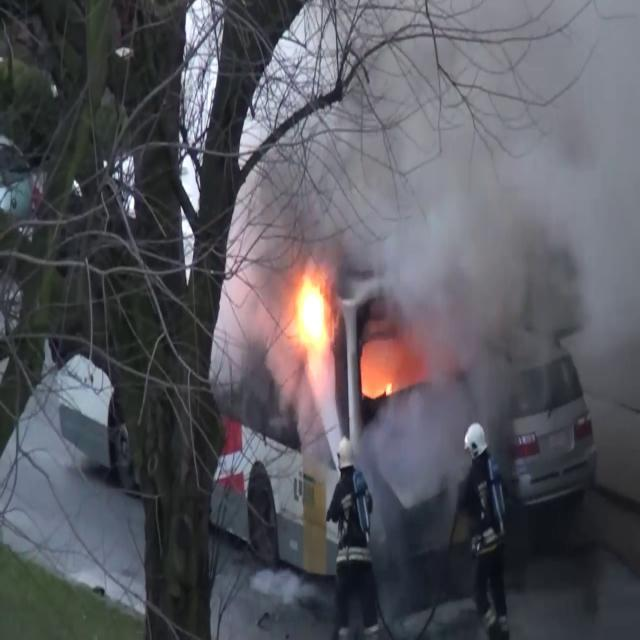Fire: (287, 260, 334, 374)
Smoke: (373, 0, 640, 508)
